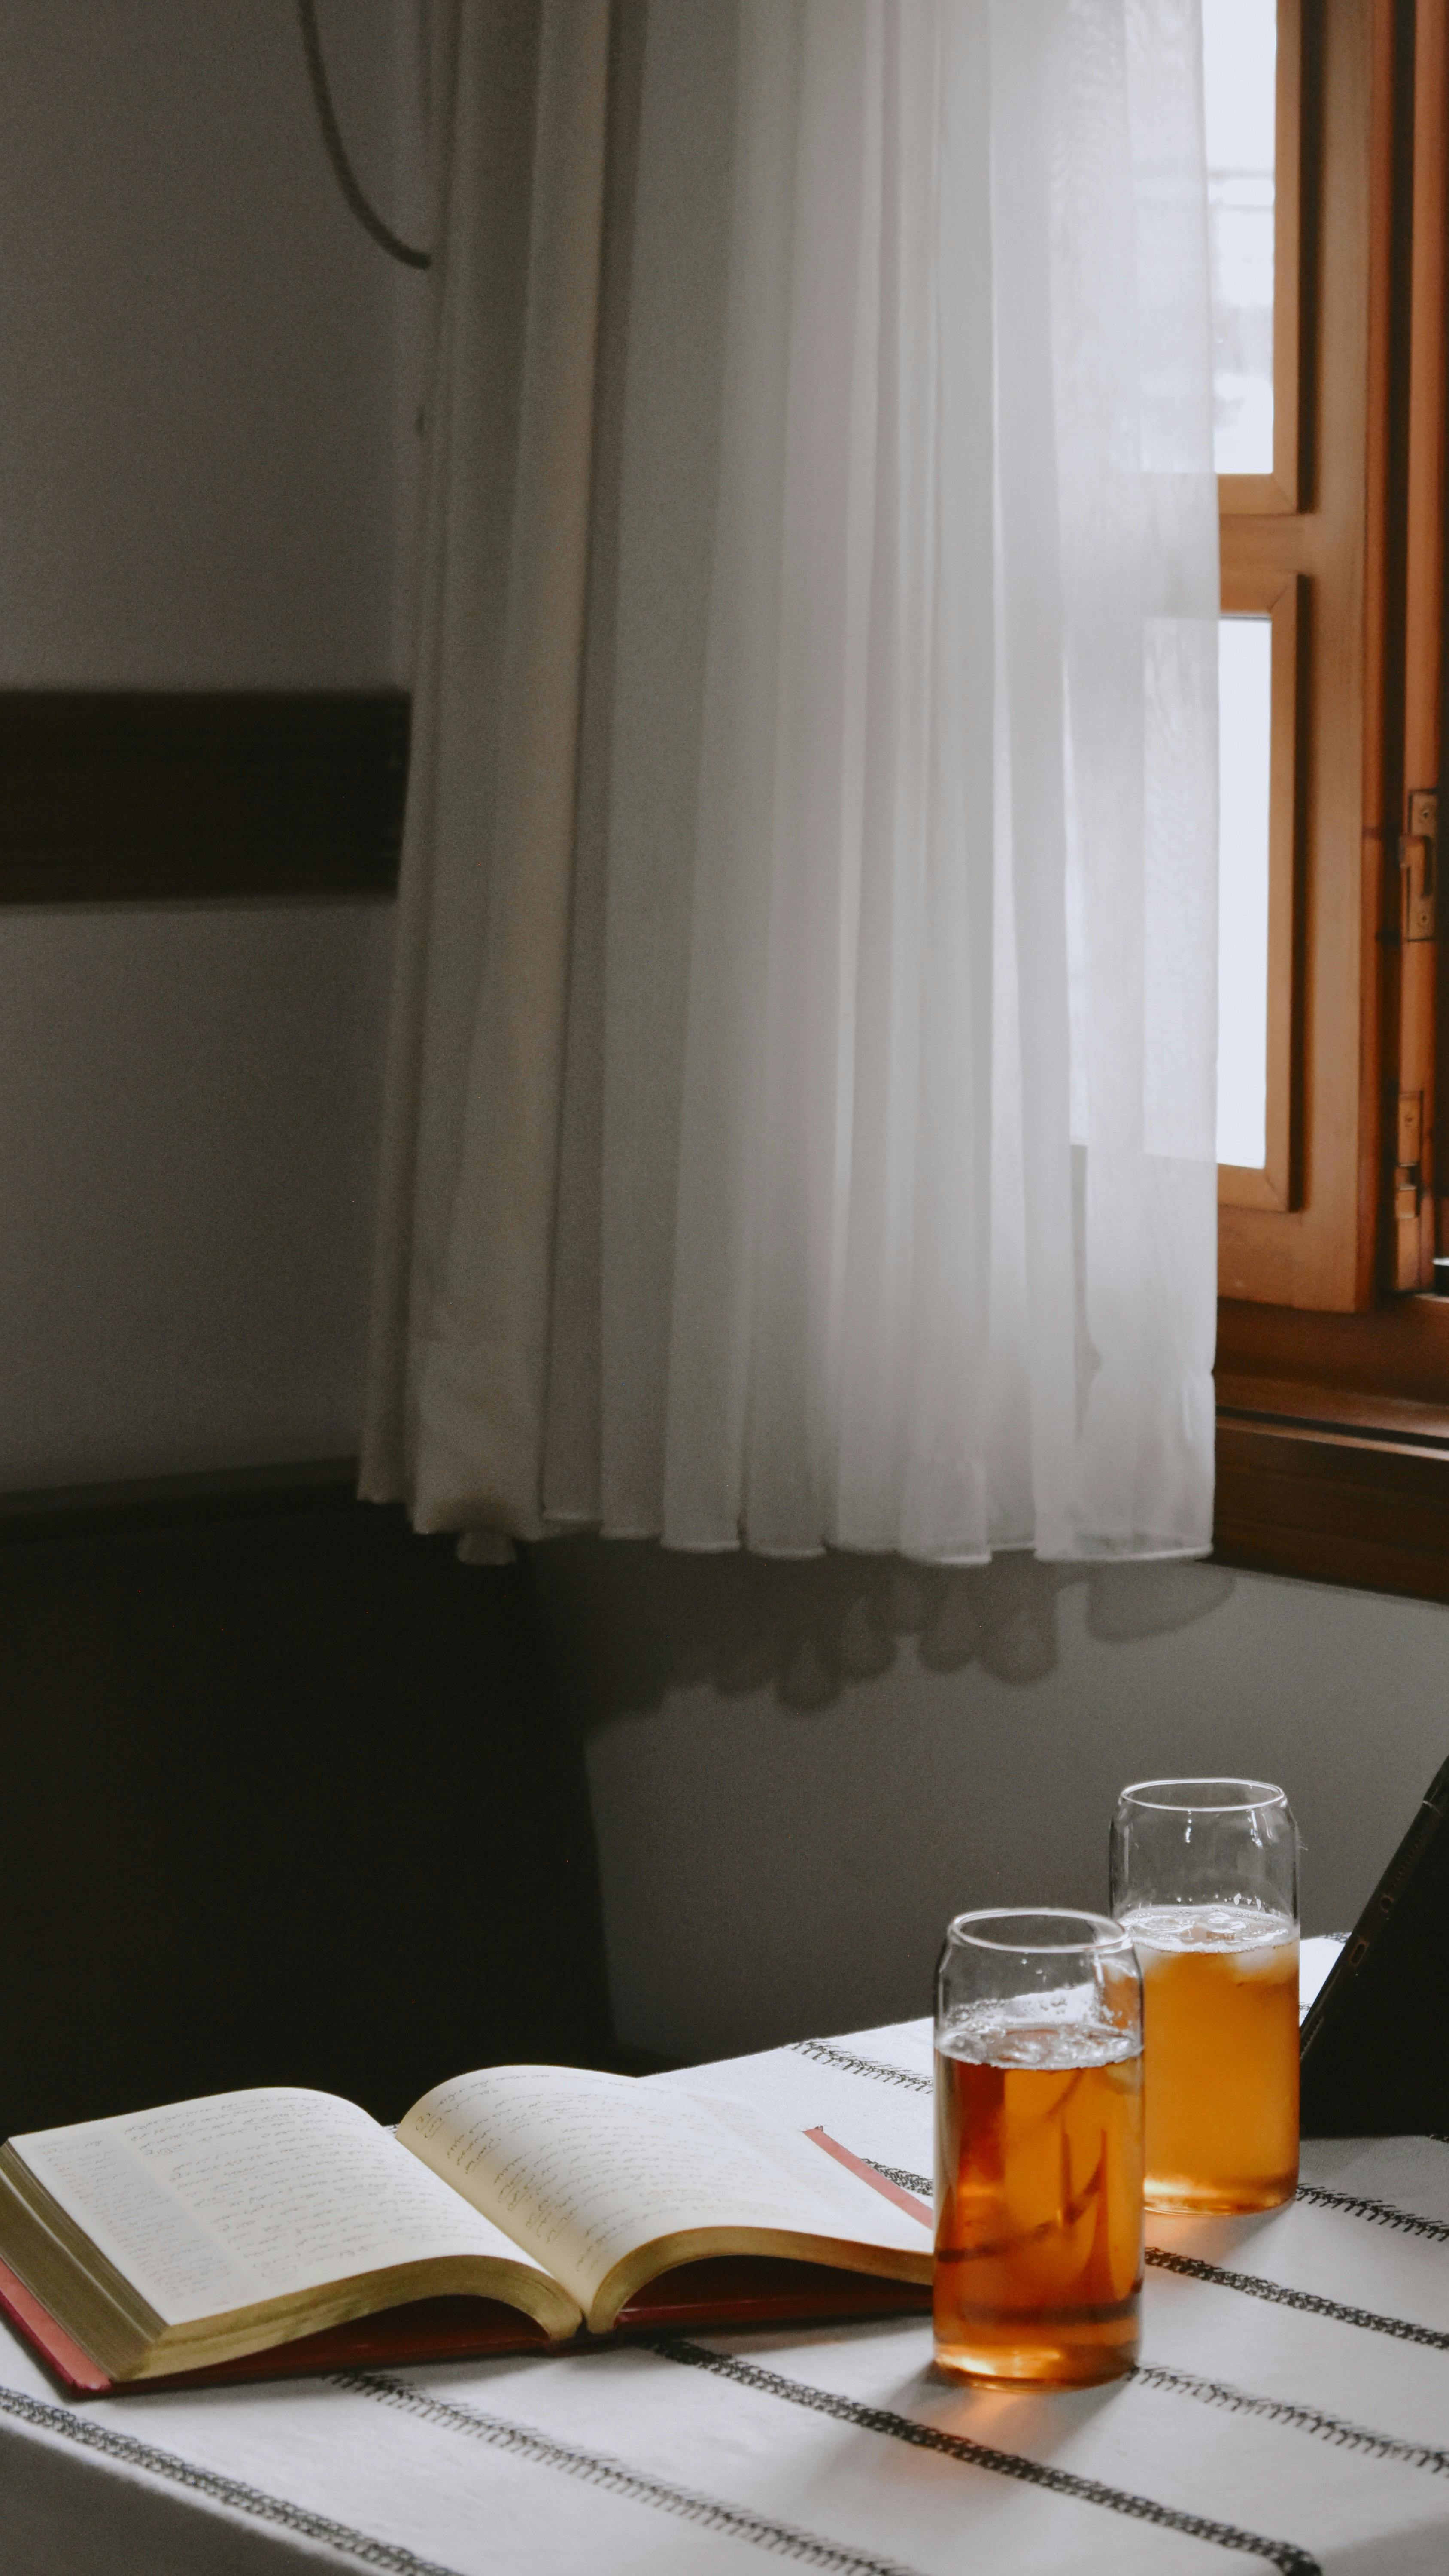book: (39, 2058, 858, 2388)
